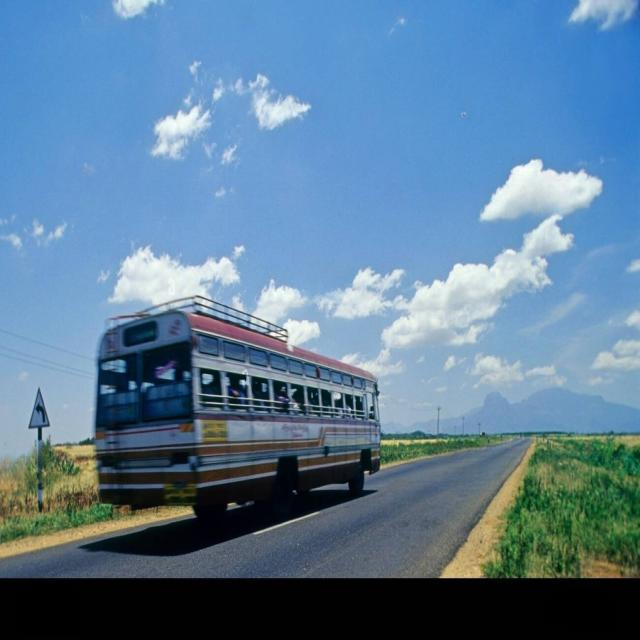bus: (95, 298, 380, 516)
